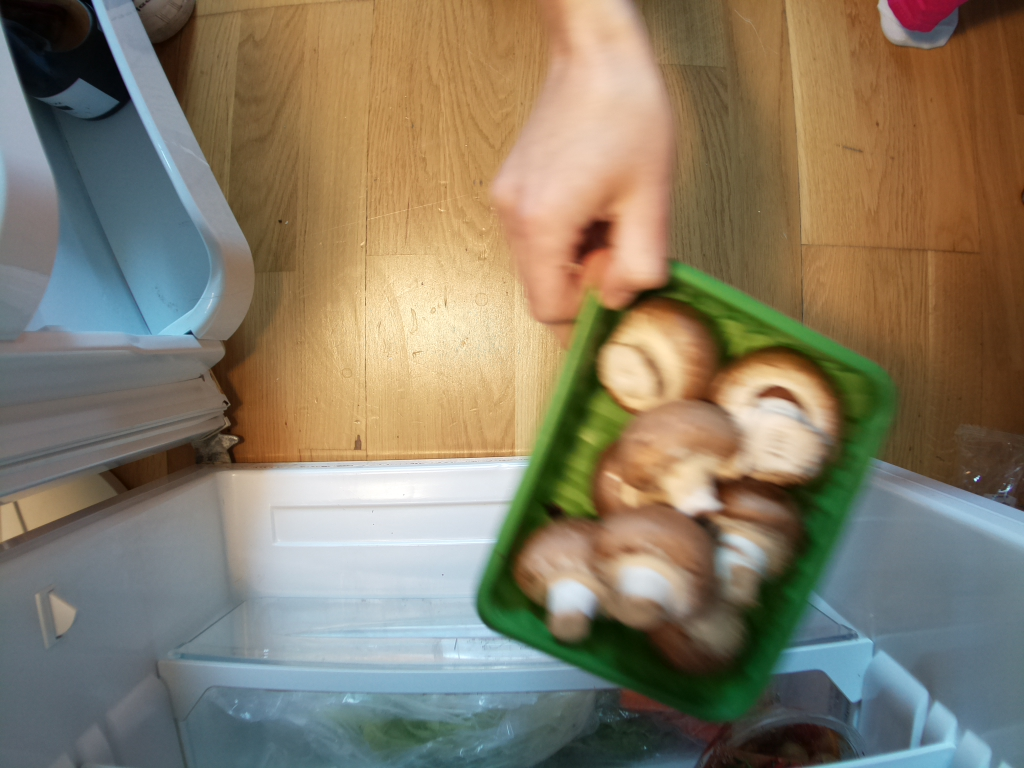mushrooms: (476, 249, 887, 742)
